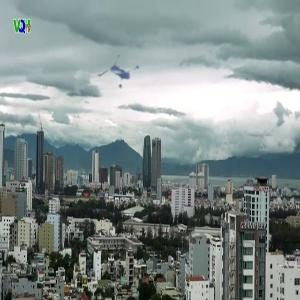drone: (89, 49, 149, 109)
